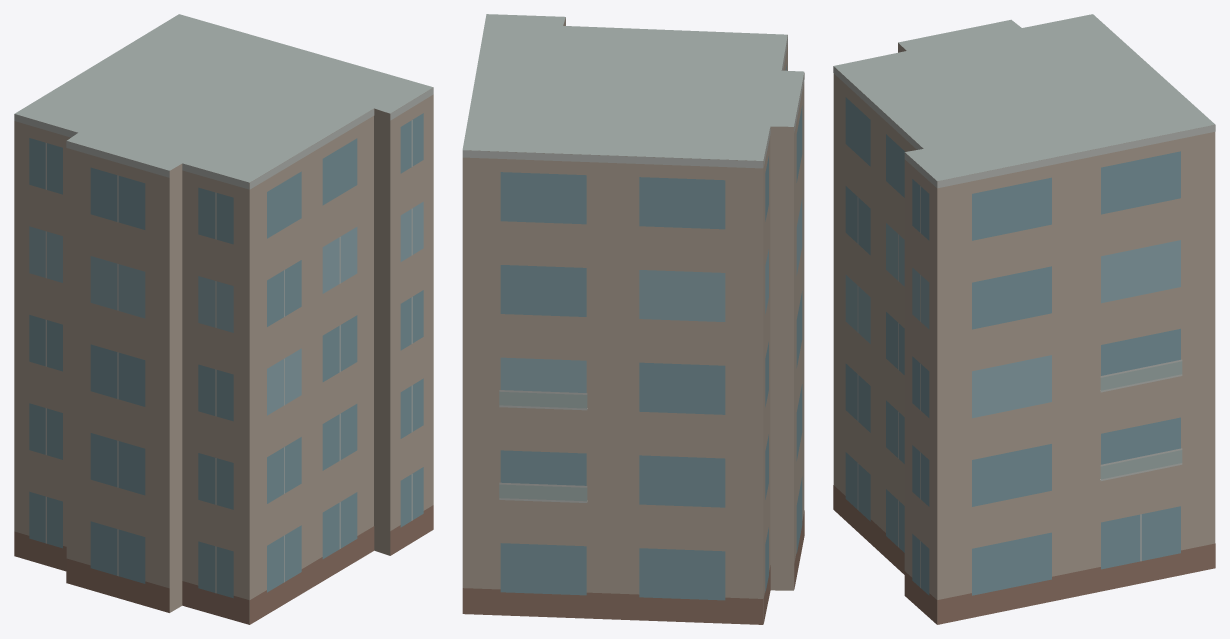
The model's file is survey-upis-32808980.glb.
The picture shows the model from 3 angles, left to right: view 1: azimuth 30°, elevation 25°; view 2: azimuth 150°, elevation 25°; view 3: azimuth 270°, elevation 25°; orthographic projection. The views are drawn at different scales.
Parts seen in each view (by area): view 1: survey-upis-32808980.tmp; view 2: survey-upis-32808980.tmp; view 3: survey-upis-32808980.tmp.
Part boxes in pixels (<box>): survey-upis-32808980.tmp: <box>14,14,433,624</box>; survey-upis-32808980.tmp: <box>462,14,804,624</box>; survey-upis-32808980.tmp: <box>833,14,1215,624</box>.
Bounding box in the file's own units: 12.34 × 15.25 × 11.91.
